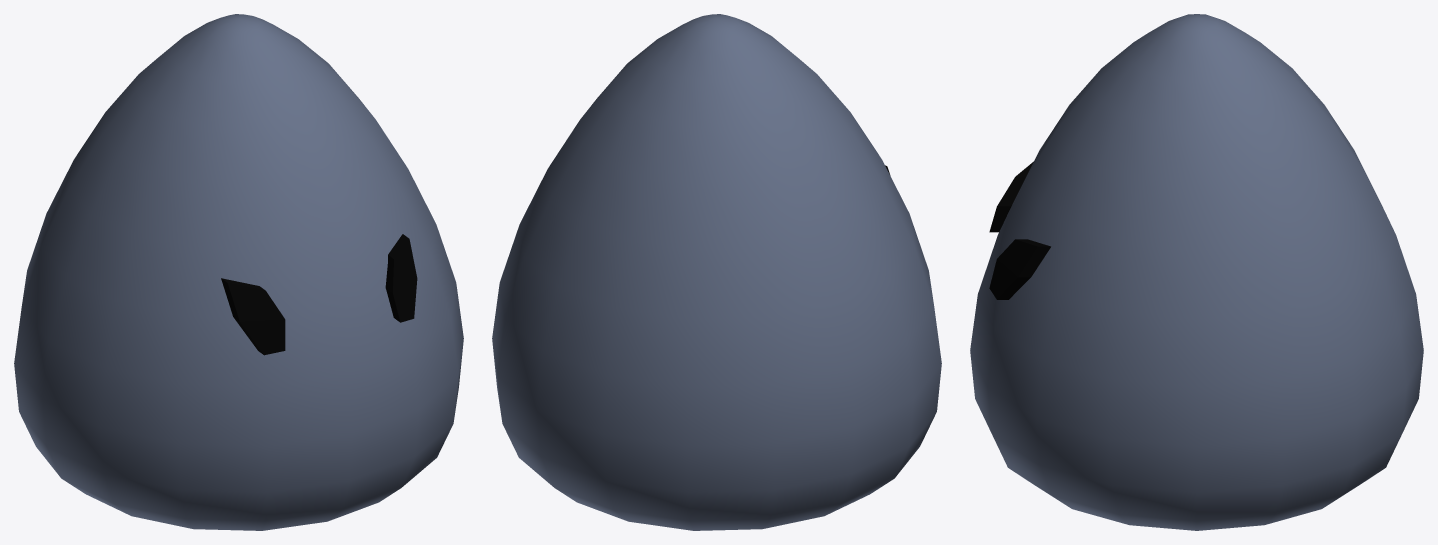
Rendered from rangerSlimeAnim.fbx.
The picture shows the model from 3 angles, left to right: view 1: azimuth 30°, elevation 25°; view 2: azimuth 150°, elevation 25°; view 3: azimuth 270°, elevation 25°; orthographic projection.
Visible parts, largest first — view 1: Slime_4; view 2: Slime_4; view 3: Slime_4.
Boxes of the visible parts, <box> form: Slime_4: <box>14,14,463,530</box>; Slime_4: <box>492,14,941,530</box>; Slime_4: <box>970,14,1423,530</box>.
Bounding box in the file's own units: 164 × 178 × 164.
